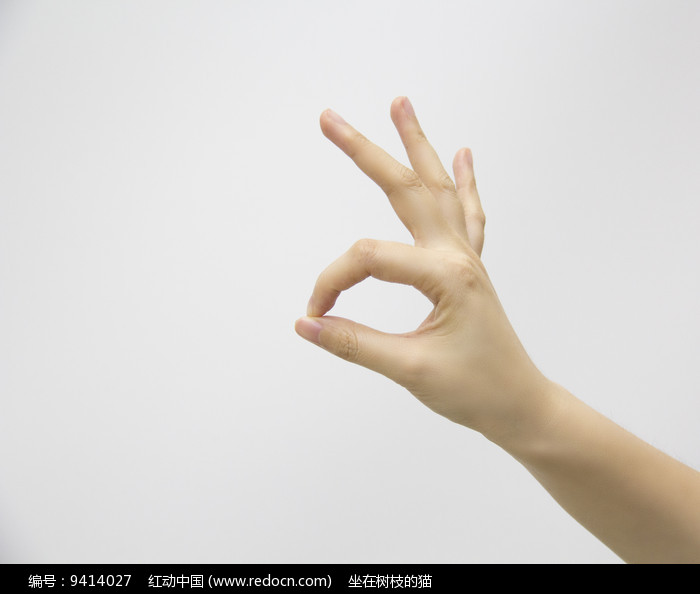no-phone: (267, 60, 587, 465)
